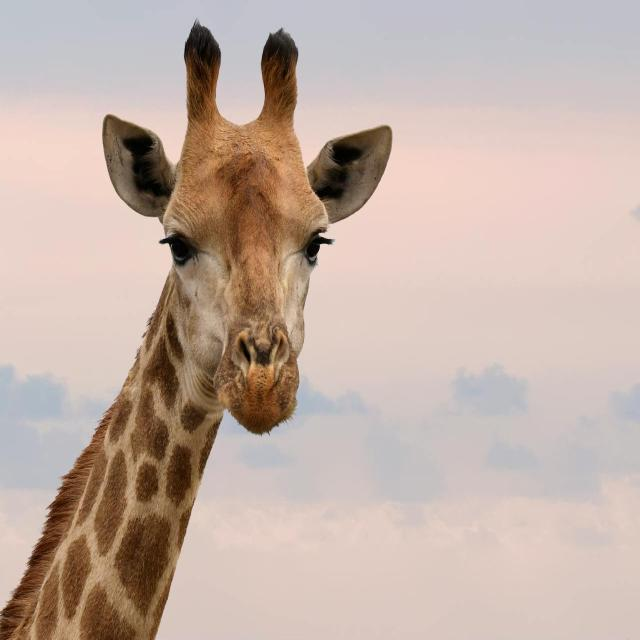Giraffe: (0, 19, 391, 640)
